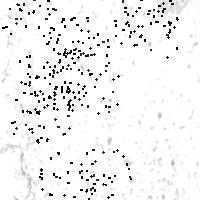pitted_surface: (49, 1, 198, 195), (2, 23, 57, 198), (11, 81, 69, 141), (19, 60, 77, 118), (60, 53, 117, 112), (56, 17, 115, 73), (26, 48, 85, 104), (120, 0, 176, 56), (73, 149, 130, 200), (39, 152, 94, 200), (0, 0, 54, 43), (113, 0, 173, 35)
